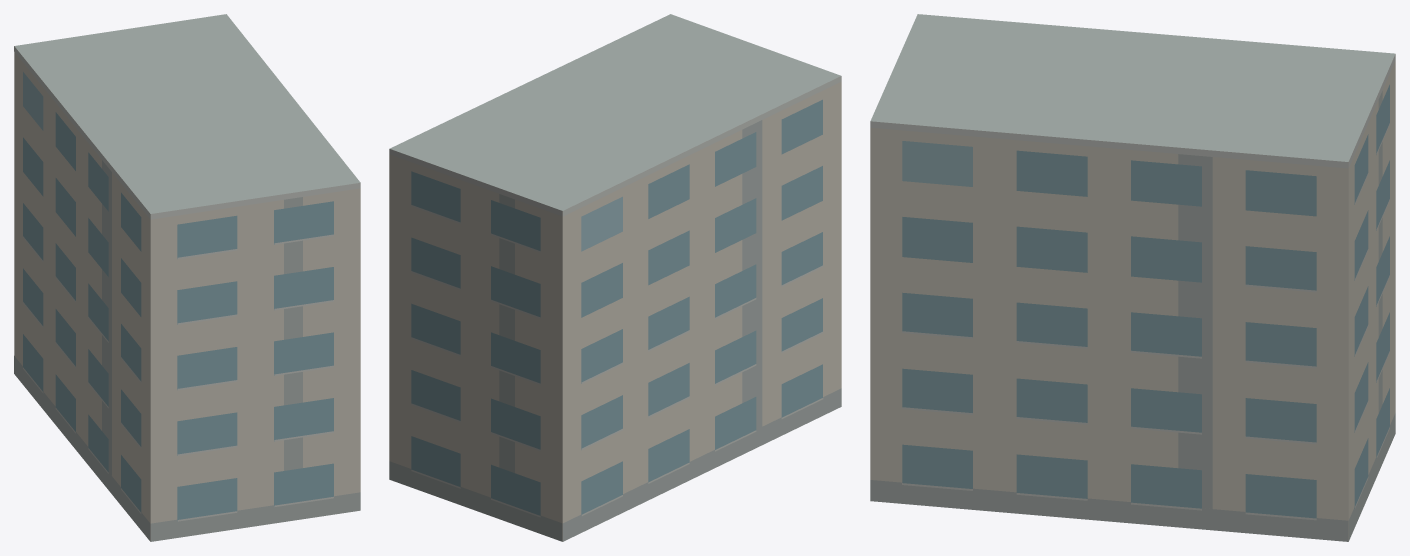
Rendered from survey-upis-32801100.glb.
3 renders of one model, left to right at view 1: azimuth 30°, elevation 25°; view 2: azimuth 150°, elevation 25°; view 3: azimuth 270°, elevation 25°, orthographic. The views are drawn at different scales.
Parts seen in each view (by area): view 1: survey-upis-32801100.tmp; view 2: survey-upis-32801100.tmp; view 3: survey-upis-32801100.tmp.
Boxes of the visible parts, <box> form: survey-upis-32801100.tmp: <box>14,14,360,541</box>; survey-upis-32801100.tmp: <box>389,14,841,541</box>; survey-upis-32801100.tmp: <box>870,14,1395,541</box>.
Bounding box in the file's own units: 11.92 × 14.25 × 17.87.
